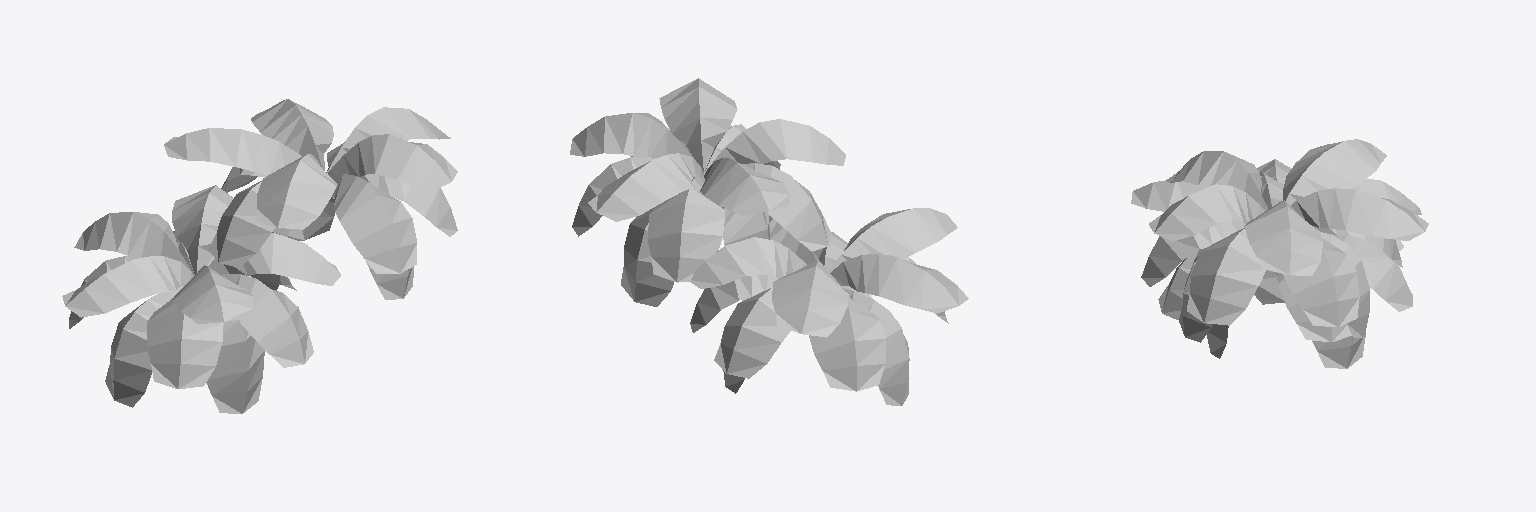
Rendered from Folha4.obj.
The picture shows the model from 3 angles: view 1: azimuth 30°, elevation 25°; view 2: azimuth 150°, elevation 25°; view 3: azimuth 270°, elevation 25°; orthographic projection.
Visible parts, largest first — view 1: Leaf_4; view 2: Leaf_4; view 3: Leaf_4.
Part boxes in pixels (left/top/right/bottom): Leaf_4: left=62, top=99, right=457, bottom=413; Leaf_4: left=570, top=78, right=968, bottom=405; Leaf_4: left=1131, top=139, right=1428, bottom=368.
Size of the model in its own units: 1.72 by 1.04 by 1.16.